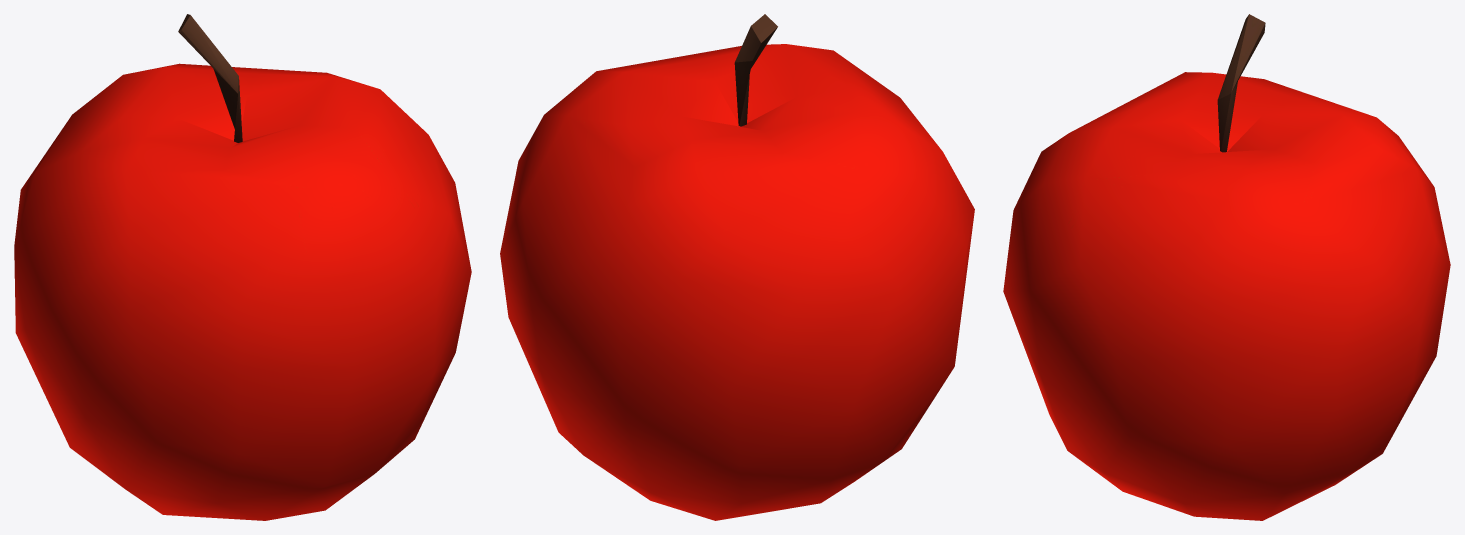
File: apple-one.glb
The picture shows the model from 3 angles, left to right: view 1: azimuth 30°, elevation 25°; view 2: azimuth 150°, elevation 25°; view 3: azimuth 270°, elevation 25°; orthographic projection. The views are drawn at different scales.
Visible parts, largest first — view 1: apple-one; view 2: apple-one; view 3: apple-one.
Part boxes in pixels (x1,y1,x2,y2): apple-one: (14,14,471,520); apple-one: (500,14,974,520); apple-one: (1003,14,1450,520).
Bounding box in the file's own units: 1.85 × 2.11 × 1.86.
Materials: 1 (1 with a texture image).
